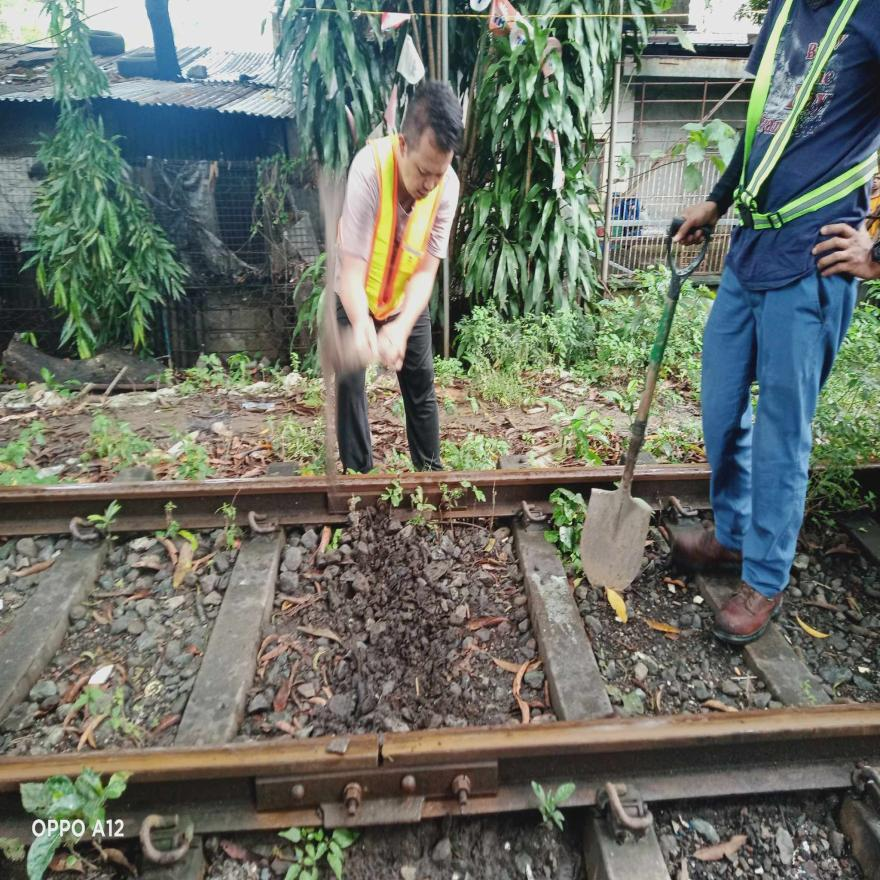railway-gap: (350, 712, 412, 792)
